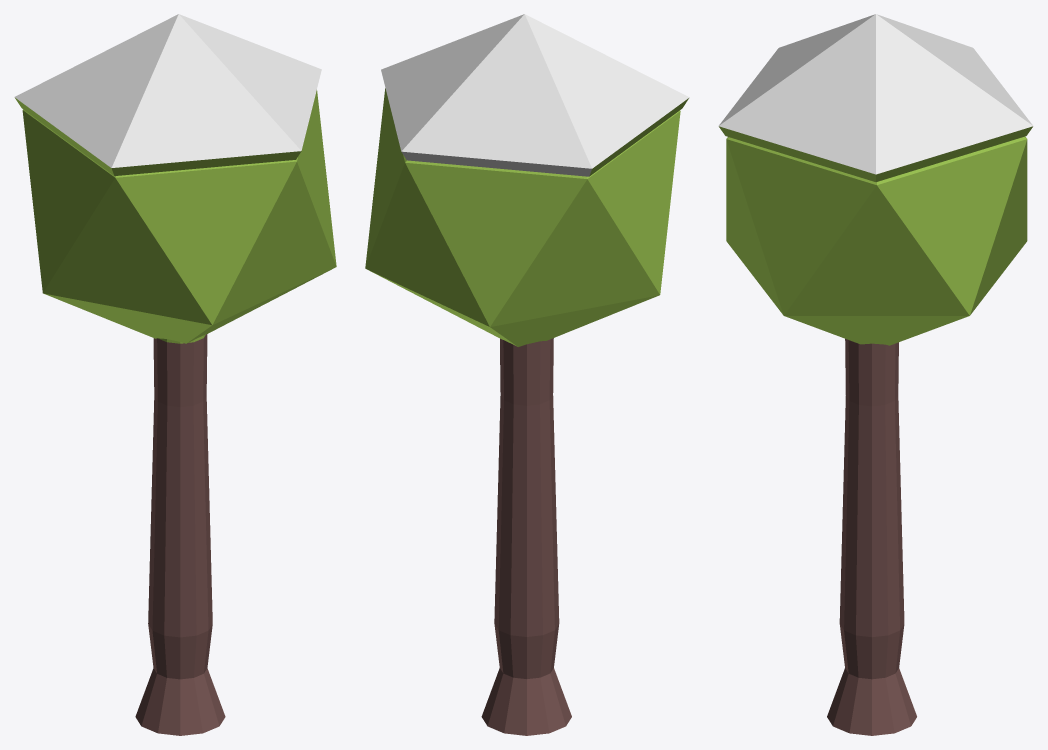
Rendered from tree_1 .fbx.
3 renders of one model, left to right at view 1: azimuth 30°, elevation 25°; view 2: azimuth 150°, elevation 25°; view 3: azimuth 270°, elevation 25°, orthographic.
Parts seen in each view (by area): view 1: FirTree.040; view 2: FirTree.040; view 3: FirTree.040.
Boxes of the visible parts, x1,y1,x2,y2 form: FirTree.040: (14, 14, 336, 735); FirTree.040: (365, 14, 689, 735); FirTree.040: (718, 14, 1033, 735).
Size of the model in its own units: 234 by 564 by 229.
